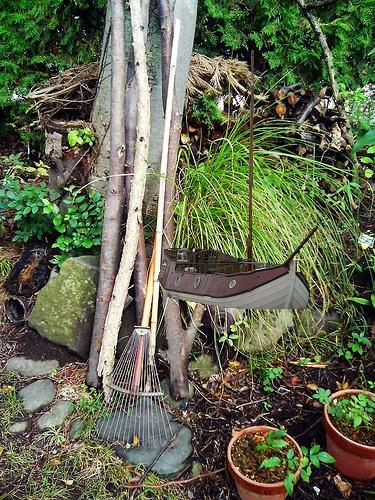tampered: (158, 51, 318, 309)
